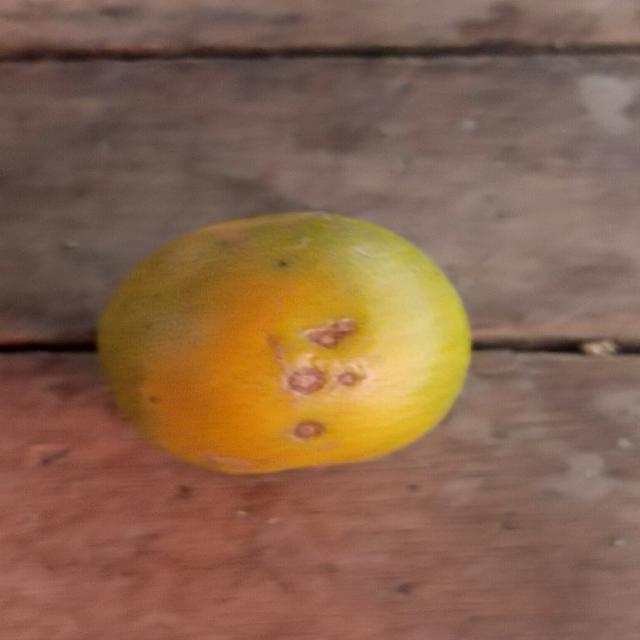black spot: (96, 208, 473, 474)
